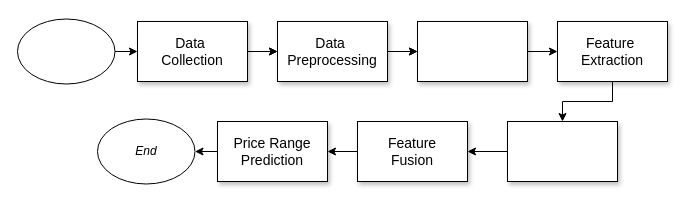
The diagram is 691 pixels wide and 206 high, and some of its shapes have lost their labels. The centre of each missing label's shape, as x and y in pixels:
CART Decision Tree Model: (563,152)
Start: (65,51)
Twitter Sentiment Analysis: (473,52)
